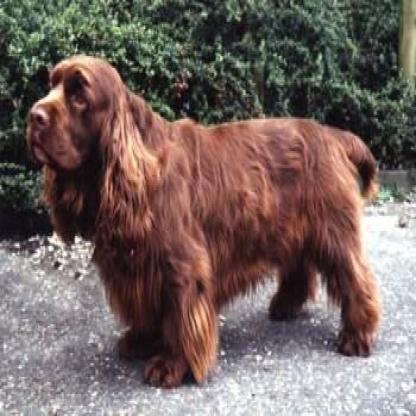Sussex_spaniel: (23, 53, 382, 380)
